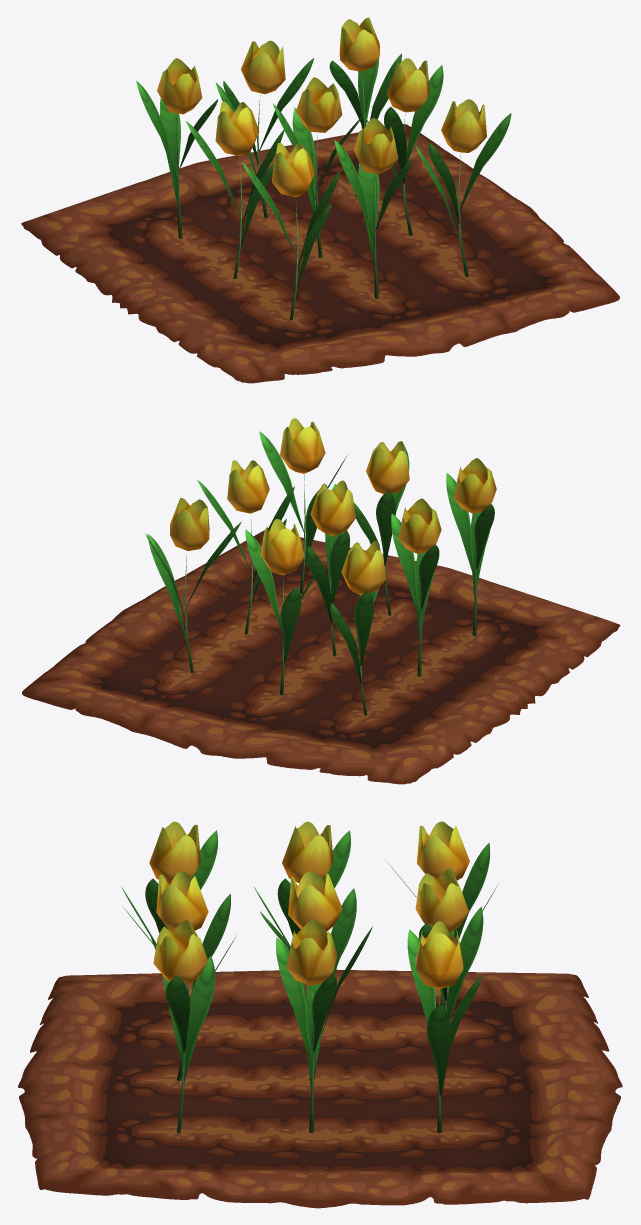
Rendered from Tulip_Field_Yellow_Lv3.FBX.
The picture shows the model from 3 angles, top to bottom: view 1: azimuth 30°, elevation 25°; view 2: azimuth 150°, elevation 25°; view 3: azimuth 270°, elevation 25°; orthographic projection. The views are drawn at different scales.
Parts seen in each view (by area): view 1: Tulip_Field_Yellow_Lv3; view 2: Tulip_Field_Yellow_Lv3; view 3: Tulip_Field_Yellow_Lv3.
Part boxes in pixels (box(x1,y1,x2,y2)): Tulip_Field_Yellow_Lv3: box(21, 17, 619, 383); Tulip_Field_Yellow_Lv3: box(22, 418, 620, 784); Tulip_Field_Yellow_Lv3: box(18, 821, 622, 1208).
Bounding box in the file's own units: 274 × 114 × 296.
